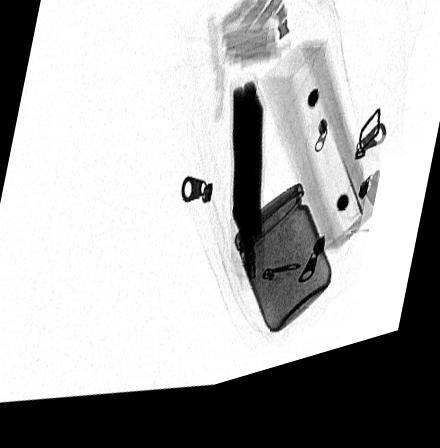Powerbank: (228, 83, 268, 267)
